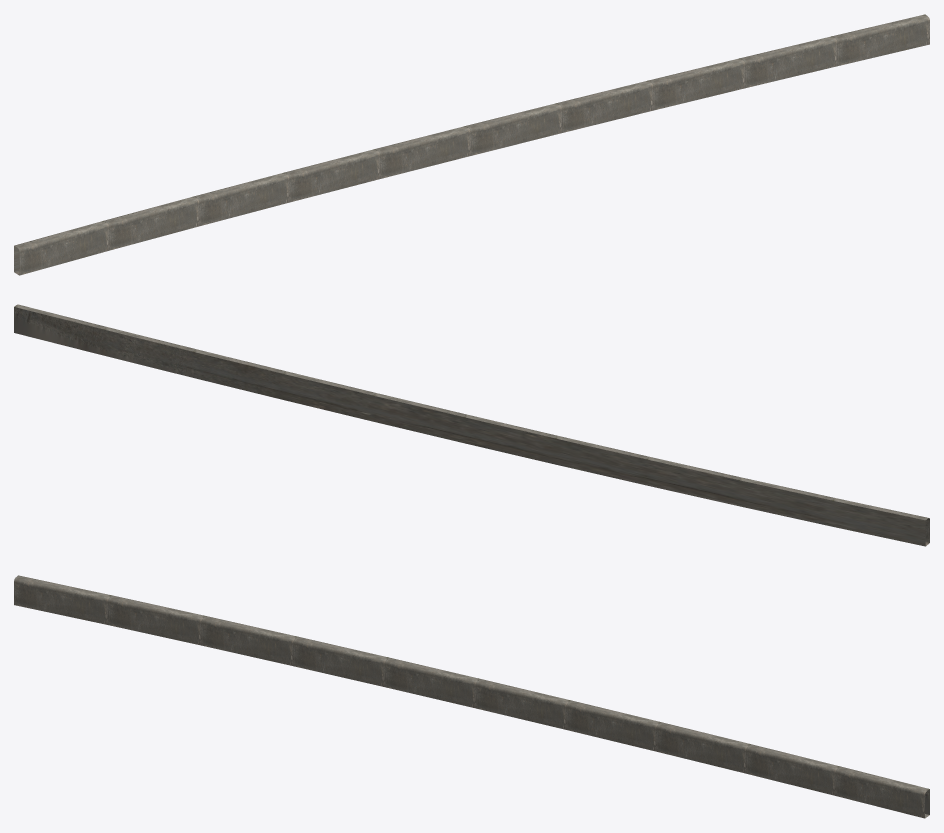
File: SM_Curb_07.glb
The picture shows the model from 3 angles, top to bottom: view 1: azimuth 30°, elevation 25°; view 2: azimuth 150°, elevation 25°; view 3: azimuth 330°, elevation 25°; orthographic projection.
Parts seen in each view (by area): view 1: SM_Curb_07; view 2: SM_Curb_07; view 3: SM_Curb_07.
Part boxes in pixels (x1,y1,x2,y2): SM_Curb_07: (14, 14, 929, 275); SM_Curb_07: (14, 304, 929, 546); SM_Curb_07: (14, 575, 929, 818).
Size of the model in its own units: 2718 by 75 by 79.12.
Materials: 1 (1 with a texture image).
